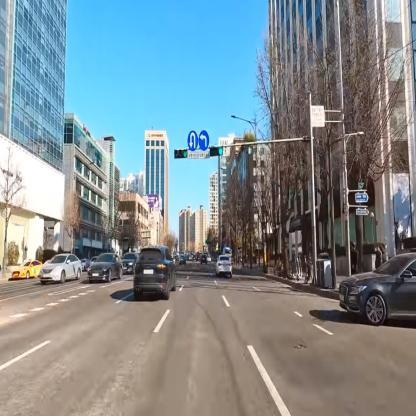Green: (175, 149, 189, 158), (210, 146, 223, 155)
